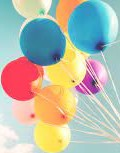Balloon: (67, 1, 120, 54), (20, 18, 67, 65), (1, 56, 41, 101), (35, 86, 76, 125), (33, 121, 71, 151)
